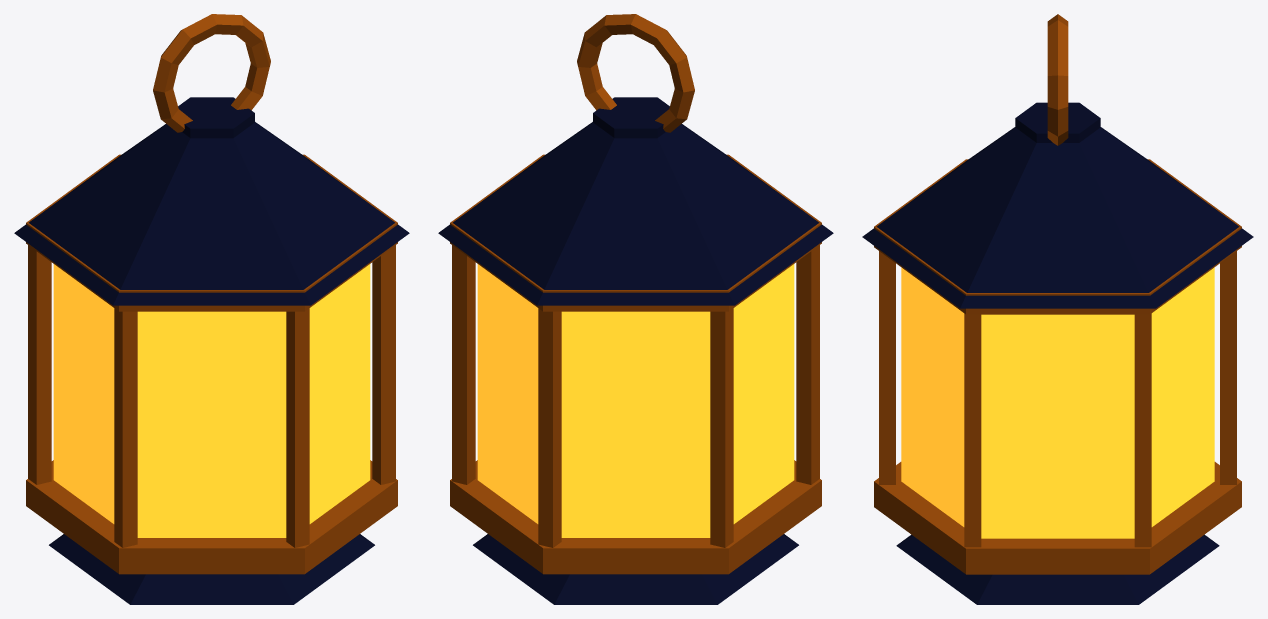
File: tb_lantern.three-web-toon.glb
The picture shows the model from 3 angles, left to right: view 1: azimuth 30°, elevation 25°; view 2: azimuth 150°, elevation 25°; view 3: azimuth 270°, elevation 25°; orthographic projection.
Parts seen in each view (by area): view 1: lantern_body; view 2: lantern_body; view 3: lantern_body.
Boxes of the visible parts, bbox=[...] form: lantern_body: bbox=[14, 14, 409, 604]; lantern_body: bbox=[438, 14, 833, 604]; lantern_body: bbox=[862, 14, 1253, 604].
Bounding box in the file's own units: 0.251 × 0.4563 × 0.2898.
